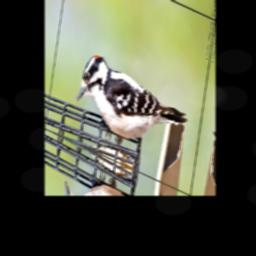Woodpecker: (72, 45, 192, 174)
